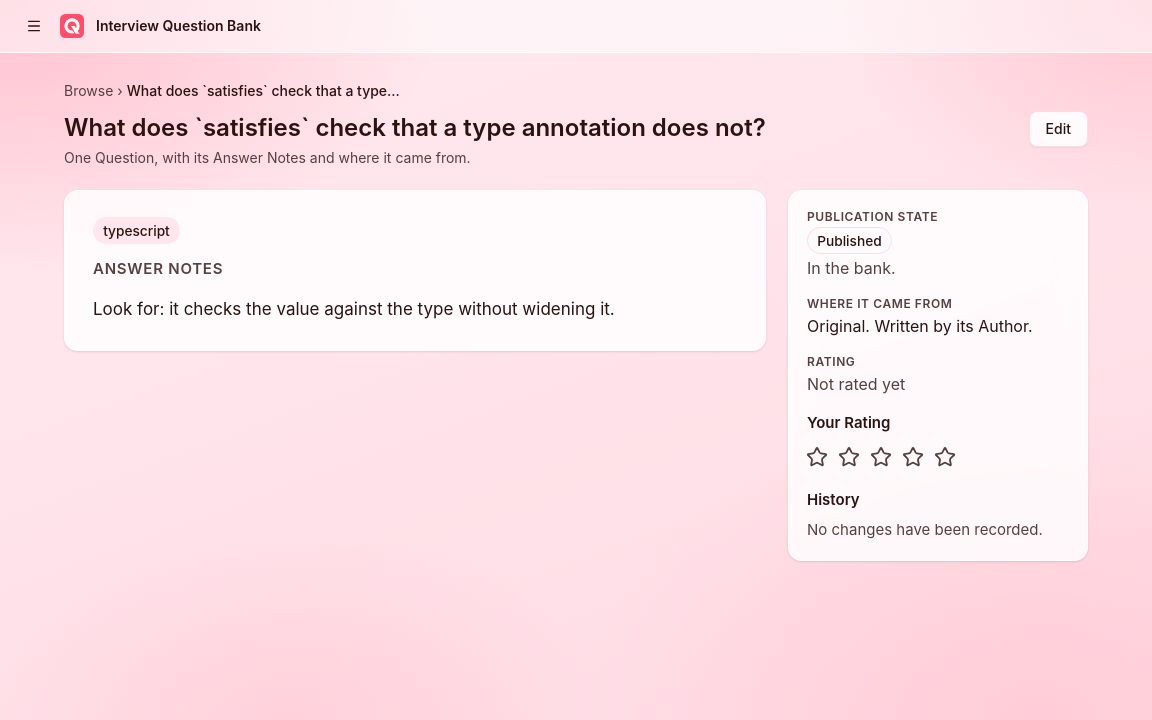
Test case: rating a Question › shows the API's refusal when an Author rates their own Question
The width and height of the screenshot is (1152, 720).
Expected: the heading "What does `satisfies` check that a type annotation does not?" is shown, [64,113,766,142]
Click the button named "5 out of 5": [945, 457] box [929,441,961,473]
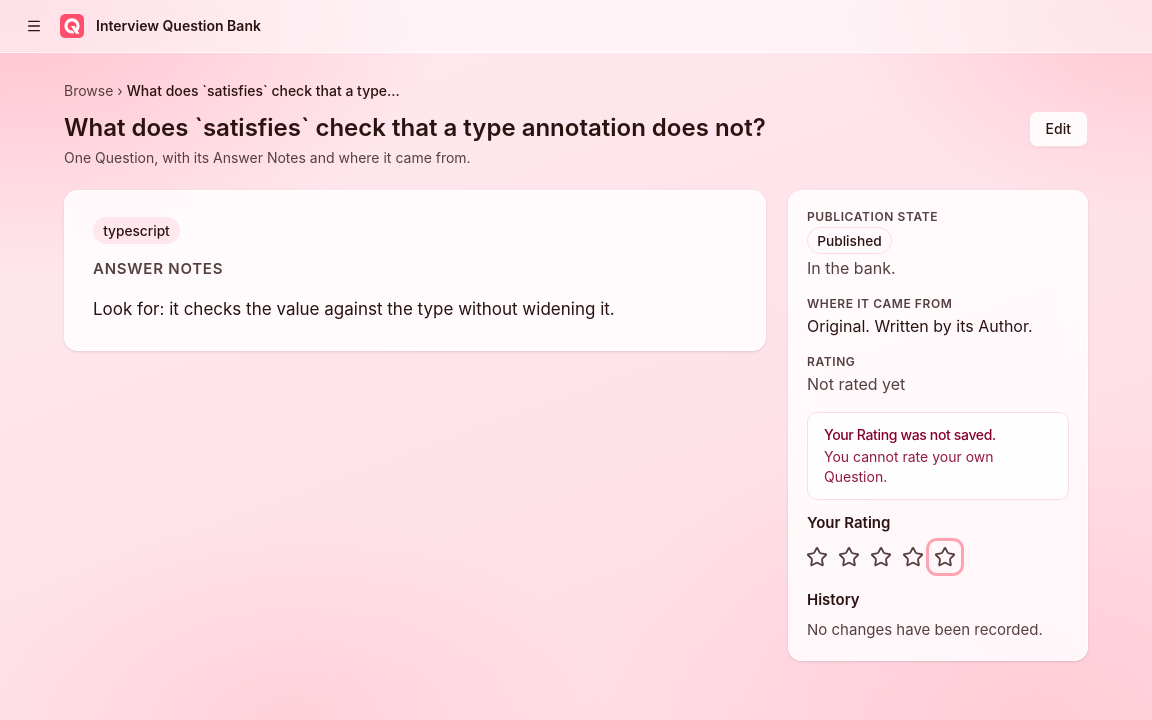
Now the text "Your Rating was not saved." is shown, box [824,426,996,443]
Now the text "You cannot rate your own Question." is shown, box [824,448,994,485]
